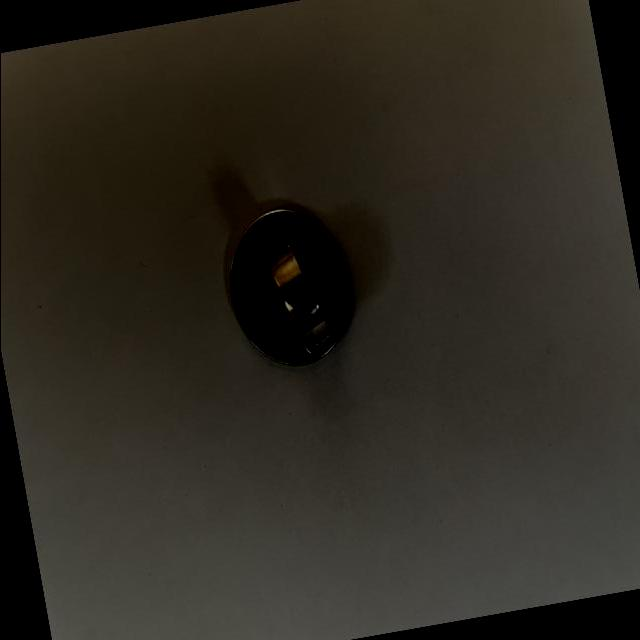COIN: (220, 195, 365, 374), (259, 236, 336, 360)
